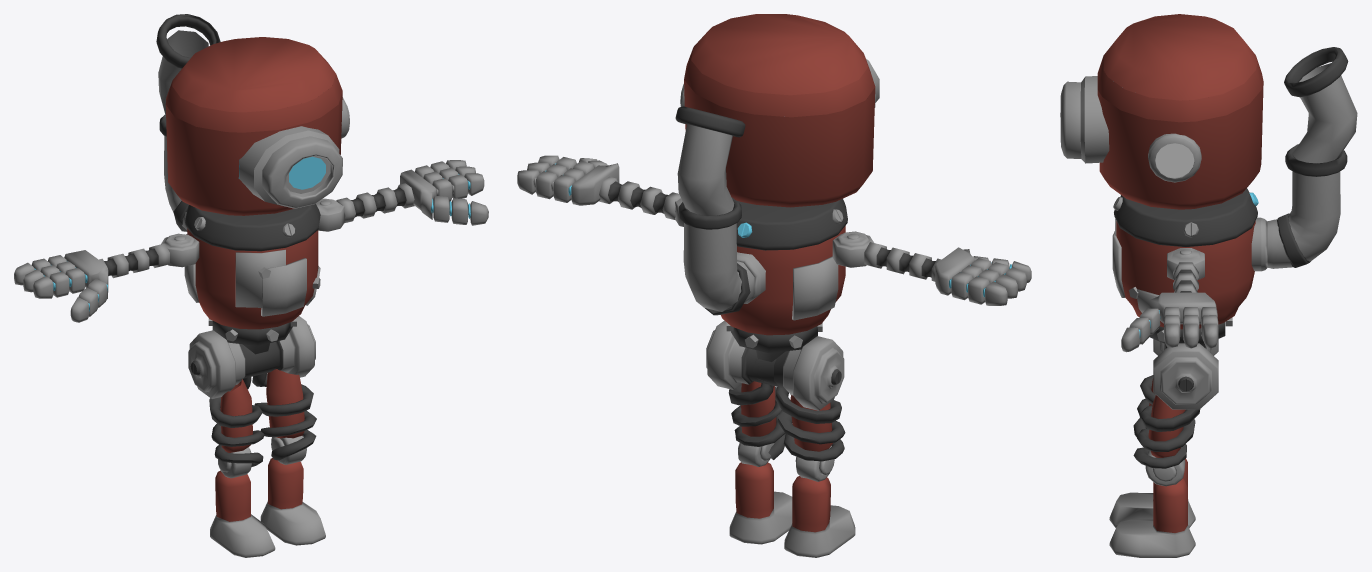
File: Basic_Fast_Enemy.fbx
3 renders of one model, left to right at view 1: azimuth 30°, elevation 25°; view 2: azimuth 150°, elevation 25°; view 3: azimuth 270°, elevation 25°, orthographic. The views are drawn at different scales.
Parts seen in each view (by area): view 1: Basic_Fast_Enemy; view 2: Basic_Fast_Enemy; view 3: Basic_Fast_Enemy.
Part boxes in pixels (x1,y1,x2,y2): Basic_Fast_Enemy: (14,14,488,557); Basic_Fast_Enemy: (517,14,1031,557); Basic_Fast_Enemy: (1060,14,1357,557).
Size of the model in its own units: 355 by 349 by 192.
